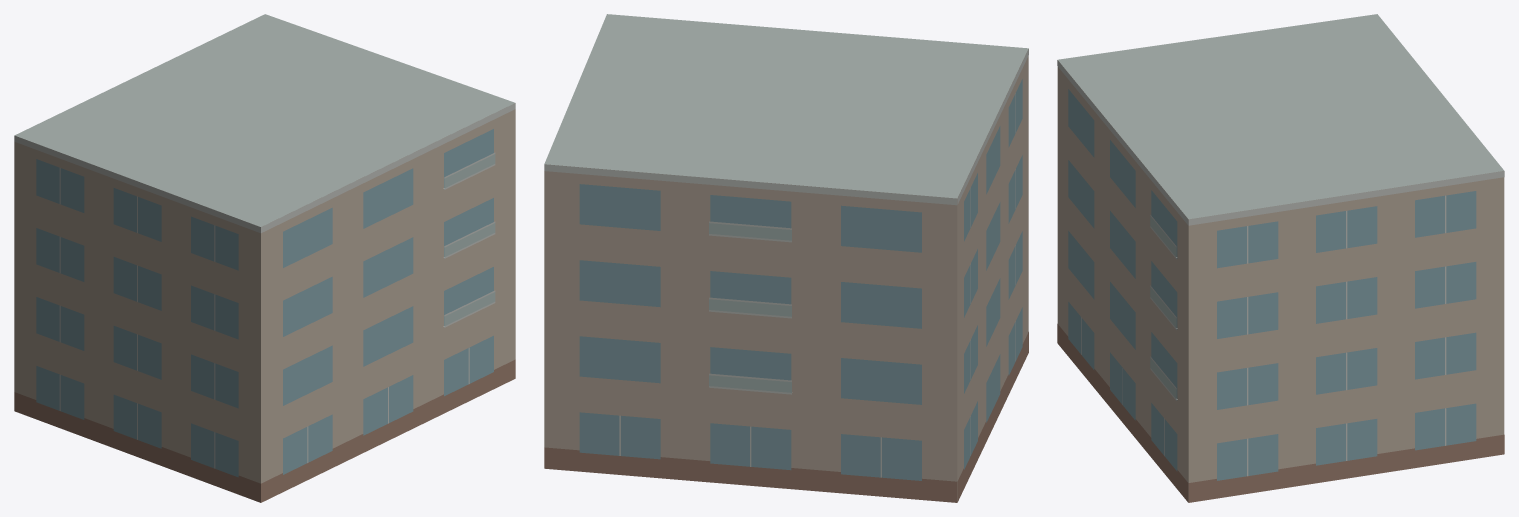
The model's file is survey-upis-33034030.glb.
3 views of the same model, side by side, from view 1: azimuth 30°, elevation 25°; view 2: azimuth 150°, elevation 25°; view 3: azimuth 270°, elevation 25° (orthographic). The views are drawn at different scales.
Parts seen in each view (by area): view 1: survey-upis-33034030.tmp; view 2: survey-upis-33034030.tmp; view 3: survey-upis-33034030.tmp.
Boxes of the visible parts, <box> form: survey-upis-33034030.tmp: <box>14,14,515,502</box>; survey-upis-33034030.tmp: <box>544,14,1028,502</box>; survey-upis-33034030.tmp: <box>1057,14,1504,502</box>.
Bounding box in the file's own units: 16.94 × 10.9 × 15.59.
